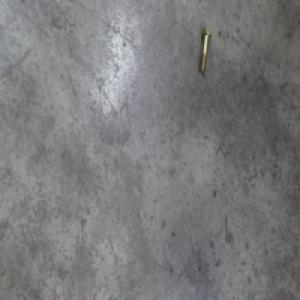Bolt: (198, 27, 212, 74)
